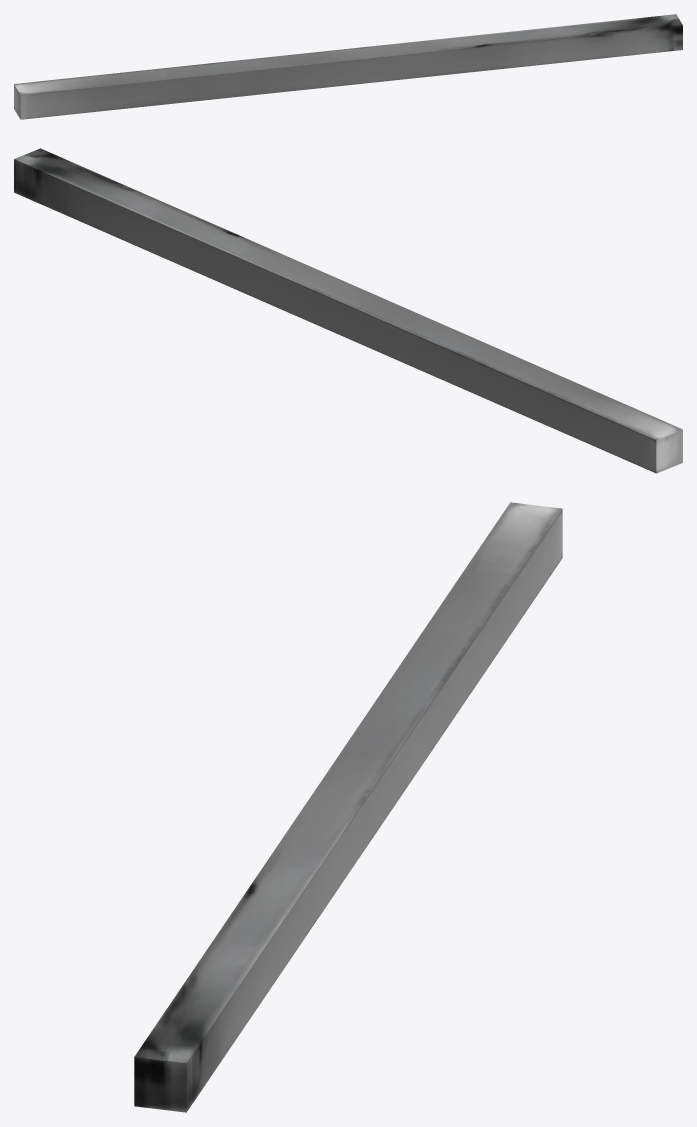
The model's file is frame__back_side_rail_0.glb.
3 views of the same model, one above another, from view 1: azimuth 30°, elevation 25°; view 2: azimuth 150°, elevation 25°; view 3: azimuth 270°, elevation 25° (orthographic). The views are drawn at different scales.
Visible parts, largest first — view 1: world; view 2: world; view 3: world.
Boxes of the visible parts, x1=… form: world: x1=14, y1=14, x2=682, y2=119; world: x1=14, y1=148, x2=682, y2=473; world: x1=134, y1=502, x2=562, y2=1112.
Size of the model in its own units: 0.8294 by 0.034 by 0.2677.
Materials: 1 (1 with a texture image).
